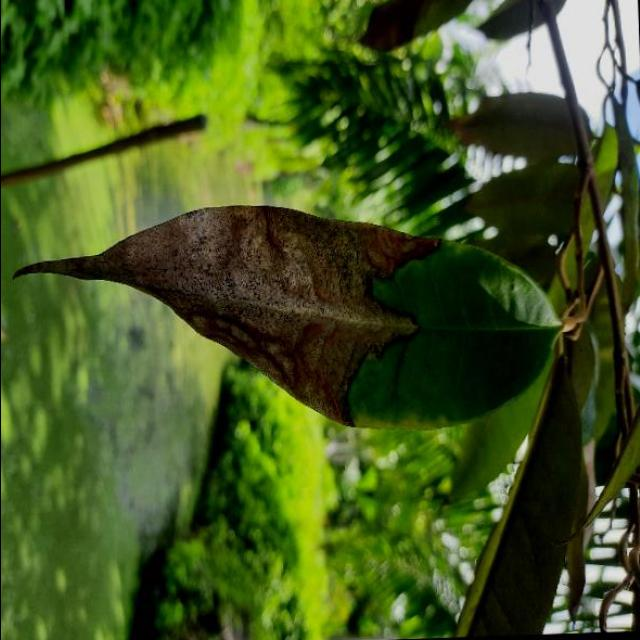Leaf Blight: (0, 180, 570, 463)
